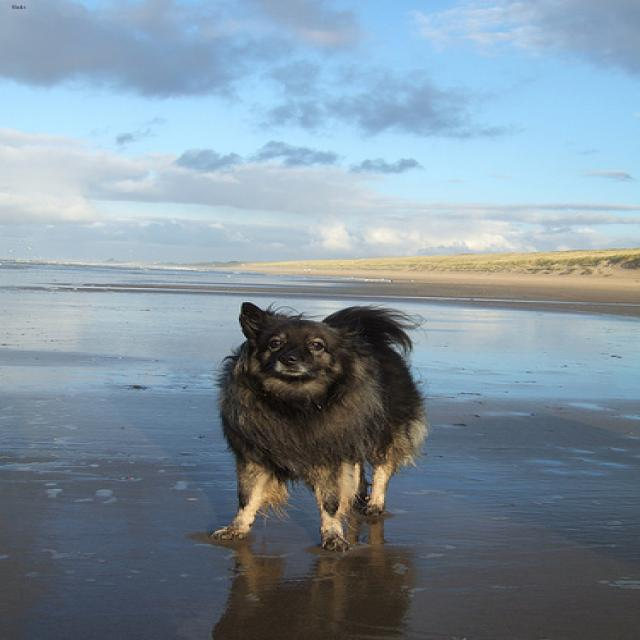dog-keeshond: (205, 292, 437, 568)
